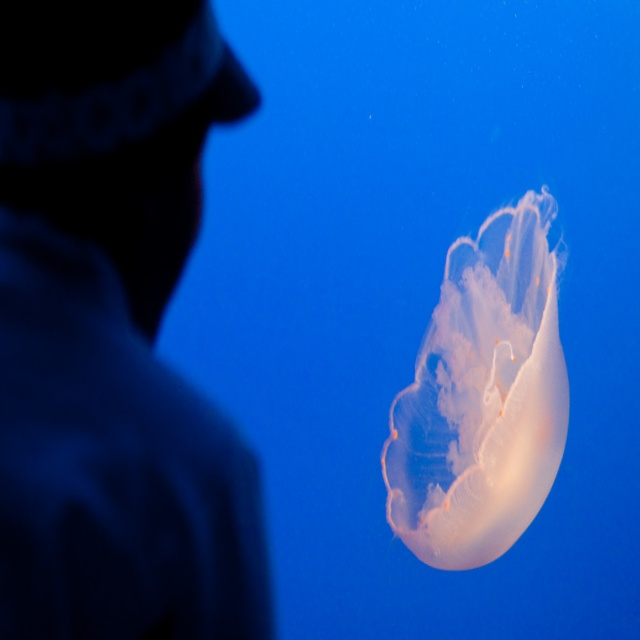Jellyfish: (378, 182, 574, 571)
